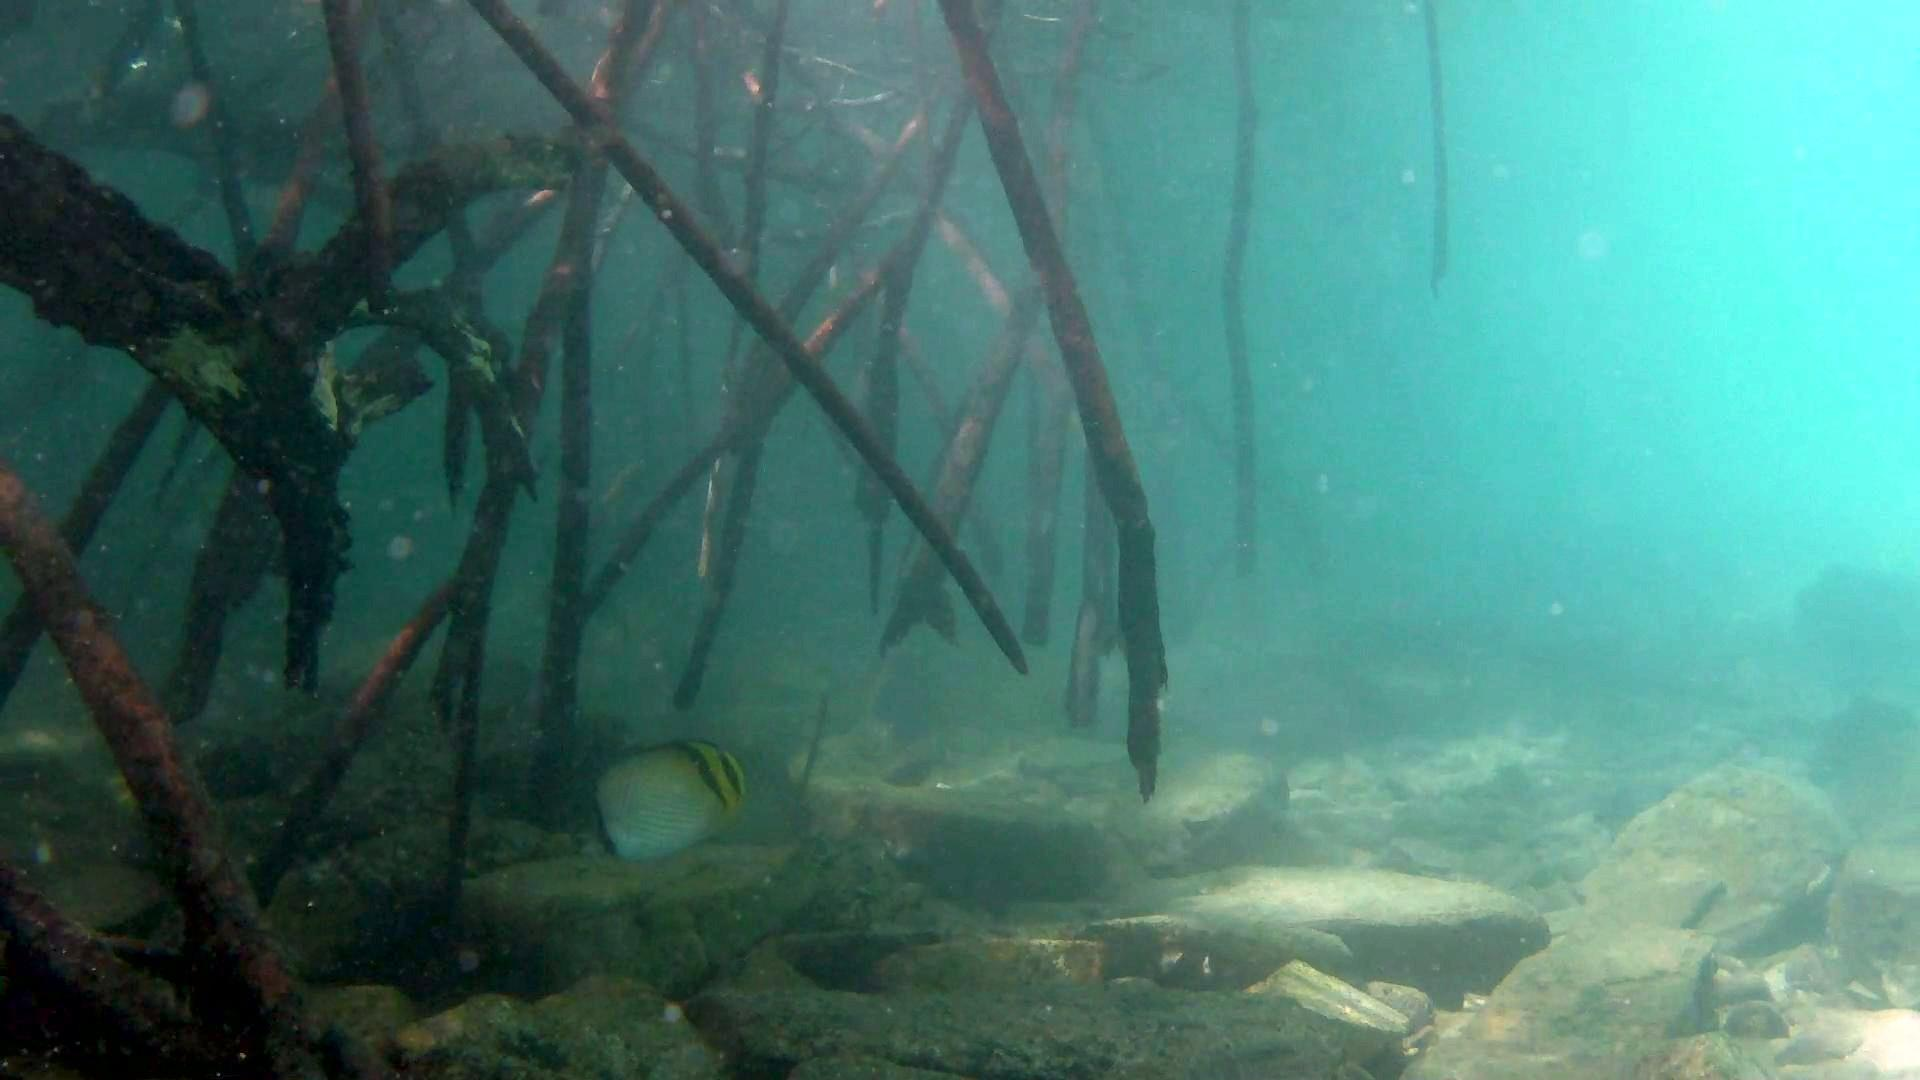chaetodon vagabundus: (580, 736, 748, 864)
